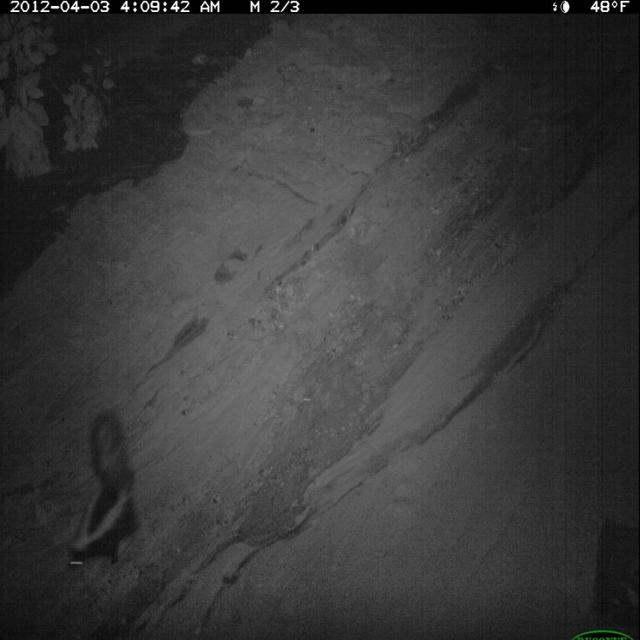skunk: (66, 406, 148, 579)
